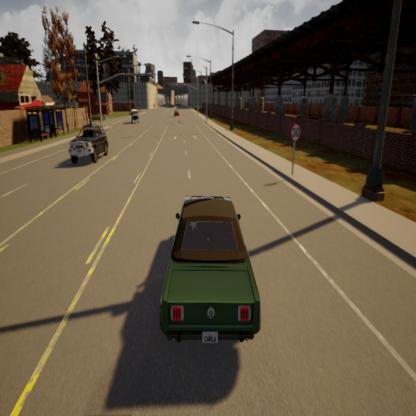Cars: (159, 187, 265, 350), (66, 123, 110, 166), (126, 105, 142, 126), (173, 106, 182, 118)
